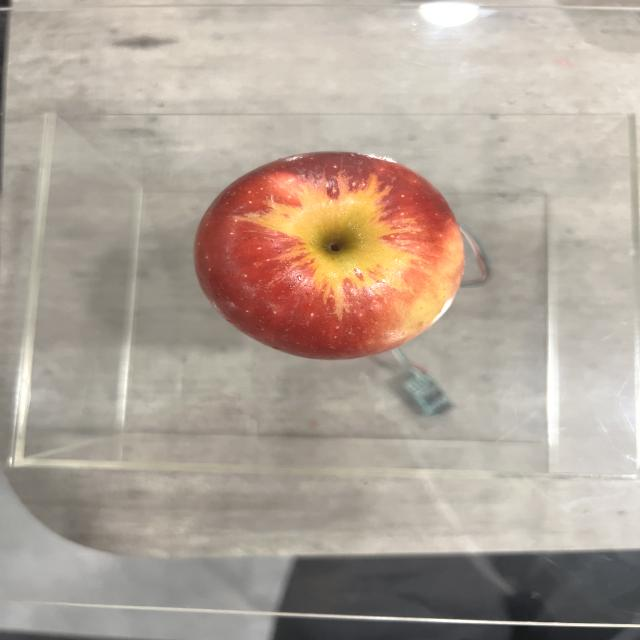red apple: (198, 150, 468, 356)
